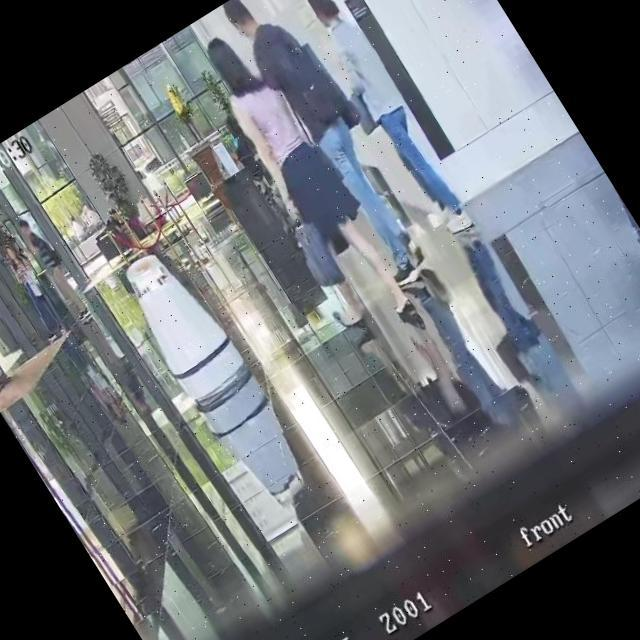person: (175, 17, 434, 364), (218, 0, 443, 292), (293, 0, 477, 236), (13, 210, 93, 320), (0, 235, 70, 338), (214, 113, 262, 173)
